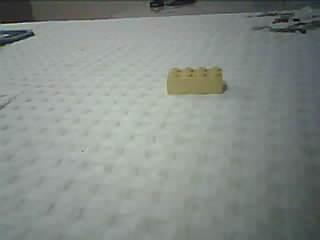lego: (164, 65, 224, 94)
